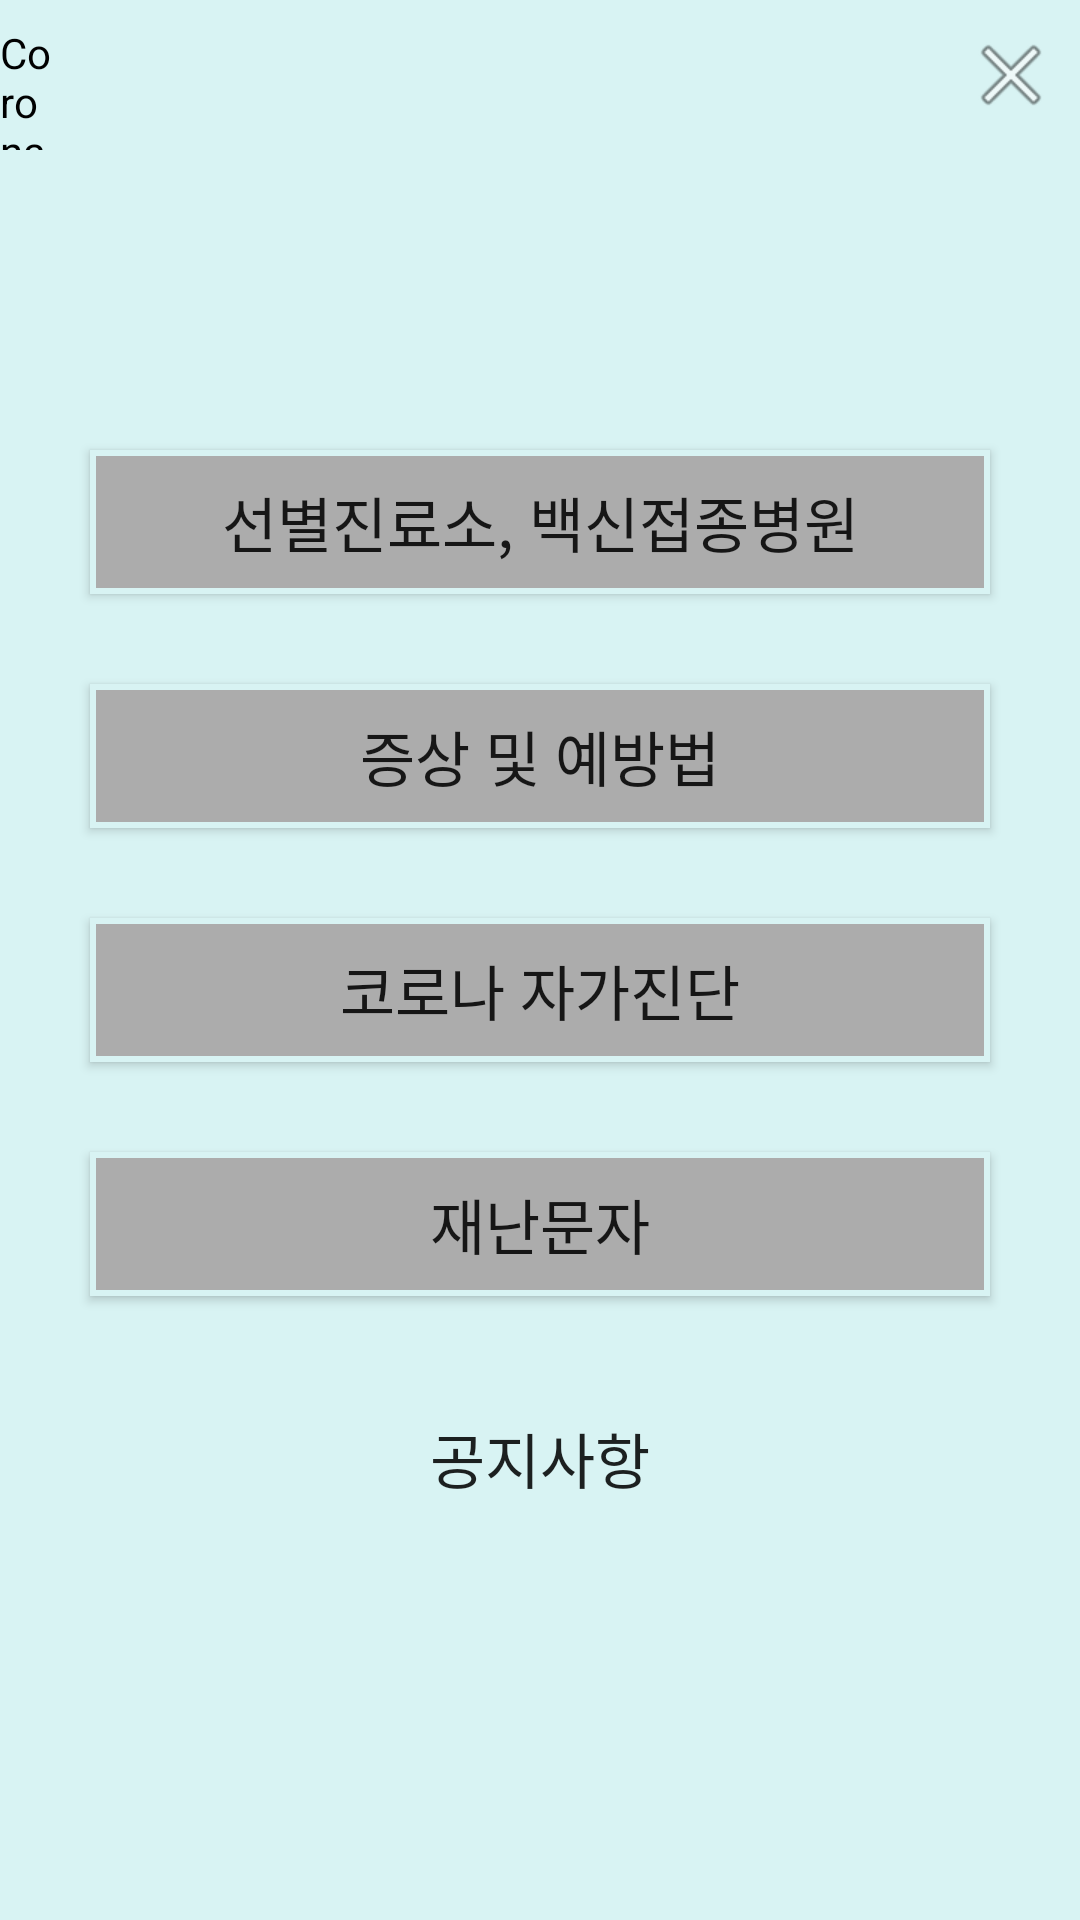

Named icons in this screenshot (1080px×1920px) and their bounding boxes, (x1, y1, x2, y2):
close clear cancel: (981, 45, 1041, 105)
